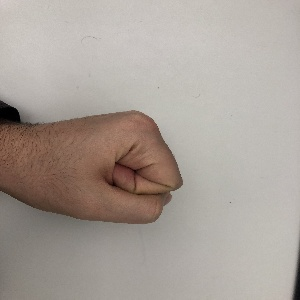hand: (26, 111, 183, 224)
